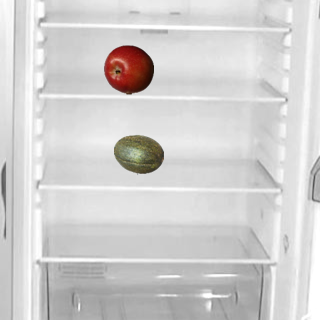Apple Braeburn: (103, 44, 153, 94)
Melon Piel de Sapo: (113, 129, 163, 179)
